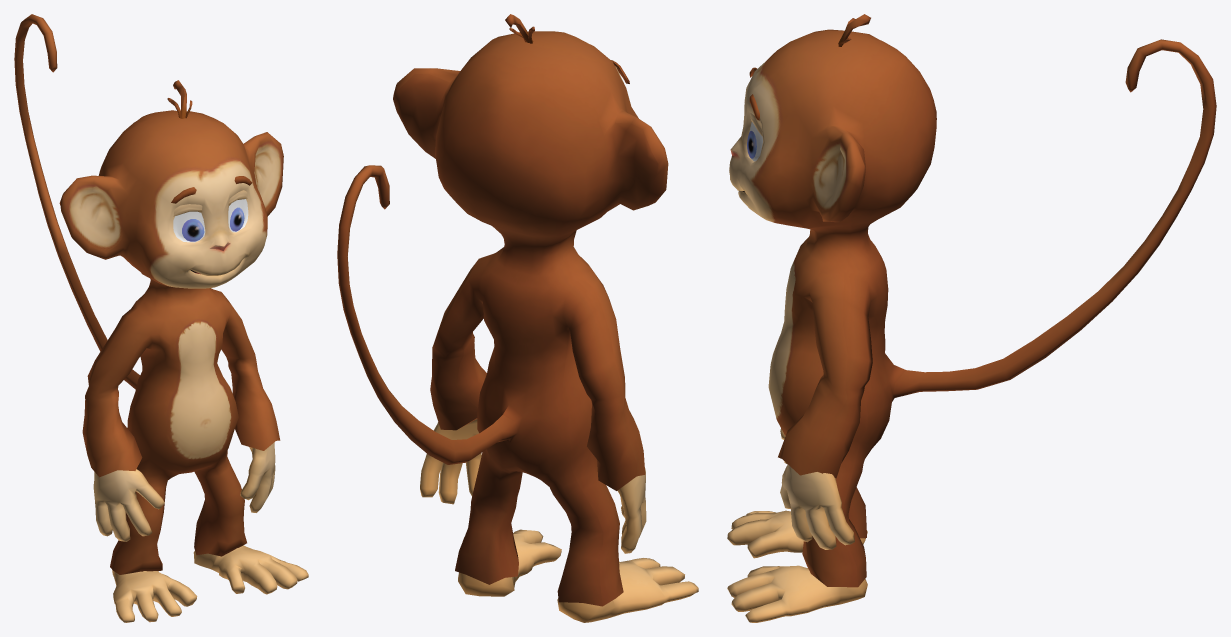
Rendered from monkey.obj.
3 renders of one model, left to right at view 1: azimuth 30°, elevation 25°; view 2: azimuth 150°, elevation 25°; view 3: azimuth 270°, elevation 25°, orthographic. The views are drawn at different scales.
Parts seen in each view (by area): view 1: Monkey_Body; view 2: Monkey_Body; view 3: Monkey_Body.
Boxes of the visible parts, x1=… form: Monkey_Body: x1=14, y1=14, x2=308, y2=622; Monkey_Body: x1=337, y1=14, x2=698, y2=622; Monkey_Body: x1=727, y1=14, x2=1216, y2=622.
Bounding box in the file's own units: 0.5347 × 1.11 × 0.8723.
1 material, 1 textured.
